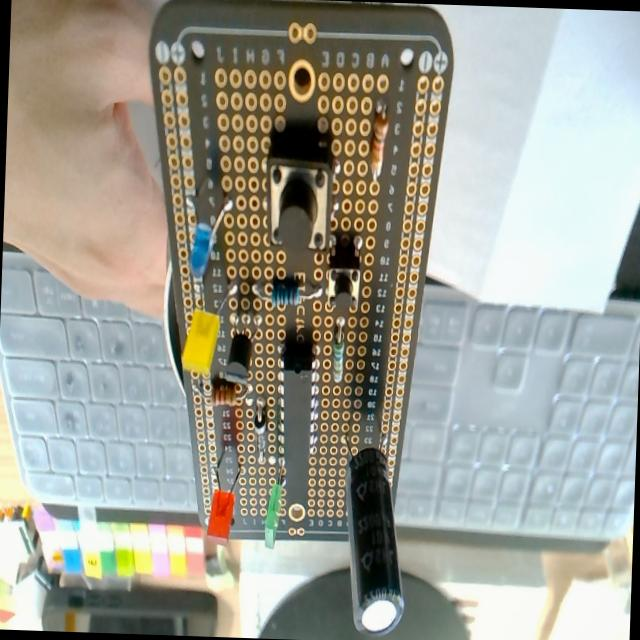Electrolytic capacitor: (336, 420, 408, 634)
IC: (273, 342, 320, 458)
diode: (253, 406, 267, 464)
led: (180, 252, 235, 377), (187, 194, 233, 280), (205, 455, 241, 545), (263, 478, 282, 550)
resistor: (250, 275, 324, 309), (368, 110, 387, 181), (332, 322, 346, 381), (212, 381, 238, 407)
switch: (264, 140, 334, 256), (325, 237, 361, 314)
transistor: (224, 308, 258, 389)
